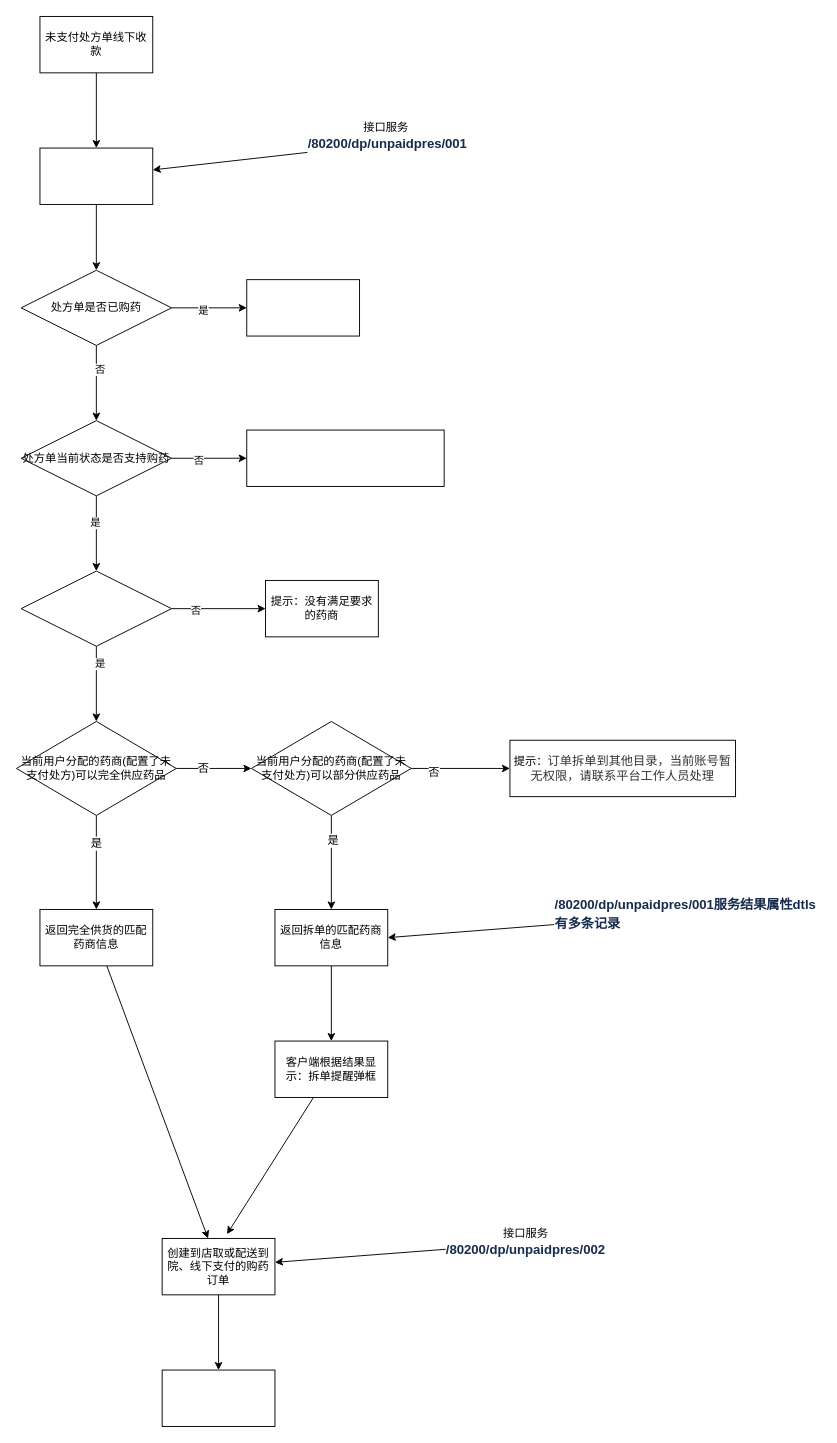
Image size: 837x1443. Some labels were removed from this diagram. Each missing label, with the box of its shape:
提示：处方单已经购药: (246, 279, 360, 336)
提示：目前处方状态不支持购药！当前状态：【状态说明】: (246, 429, 444, 486)
是否有药商满足处方单: (20, 570, 172, 646)
自动完成线下收款， 订单设置为待发药状态: (161, 1369, 275, 1426)
药商询价: (39, 147, 153, 204)
